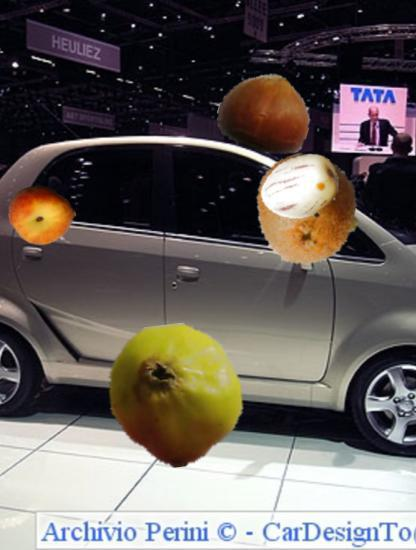Apple: (104, 324, 248, 468)
Kiwi: (250, 154, 363, 267)
Nut: (219, 66, 312, 159)
Peach: (9, 182, 75, 248)
Pepino: (262, 148, 342, 228)
